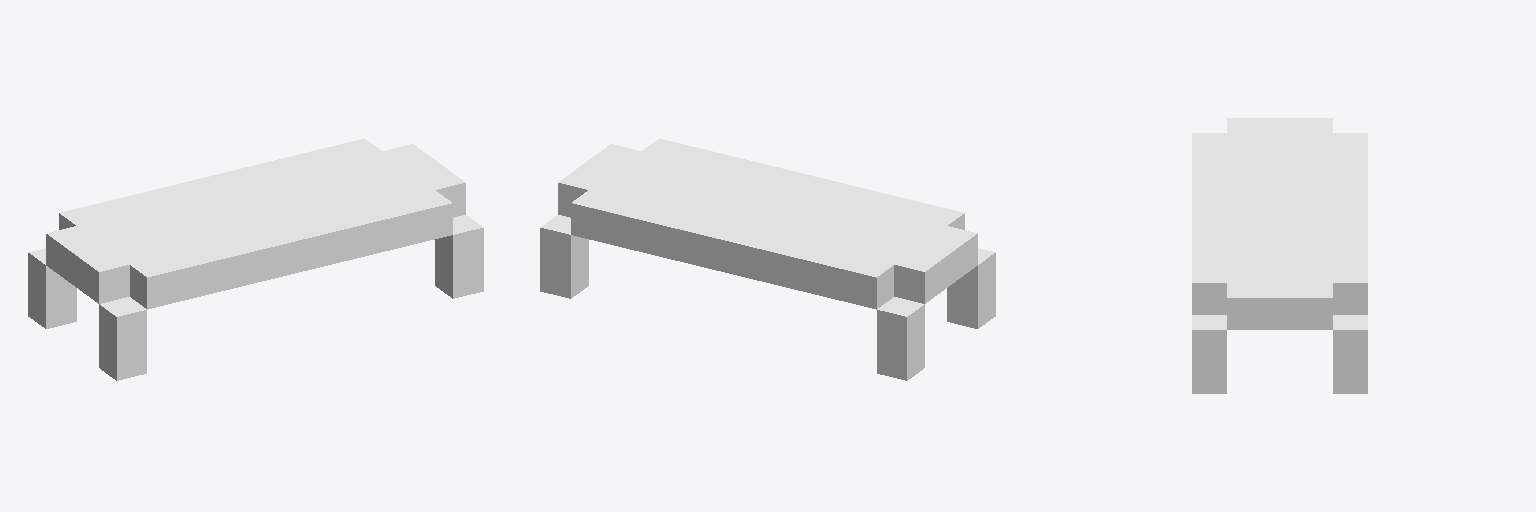
File: Bankje.obj
3 renders of one model, left to right at view 1: azimuth 30°, elevation 25°; view 2: azimuth 150°, elevation 25°; view 3: azimuth 270°, elevation 25°, orthographic.
Parts seen in each view (by area): view 1: Bankje; view 2: Bankje; view 3: Bankje.
Part boxes in pixels (x1,y1,x2,y2): Bankje: (28, 138, 483, 380); Bankje: (540, 138, 995, 380); Bankje: (1192, 118, 1367, 393).
Bounding box in the file's own units: 12 × 3 × 5.